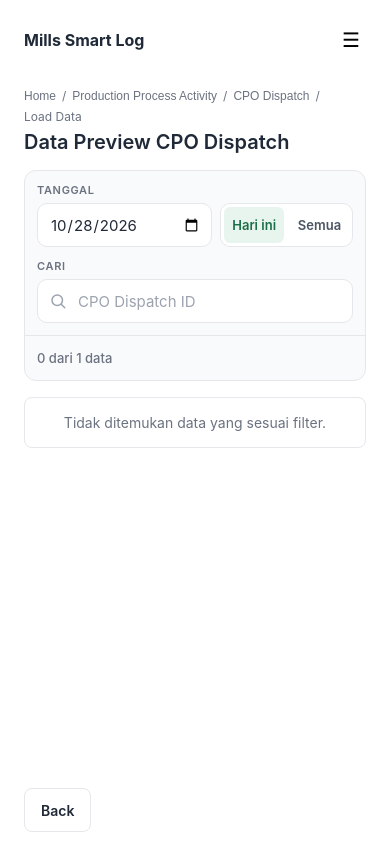
Test: DataPreviewCpoDispatchView › shows a not-found message with a reset-filter option when filters match nothing
Clear the date field with test id "date-filter". click: (125, 225)
box: x1=37 y1=203 x2=212 y2=247
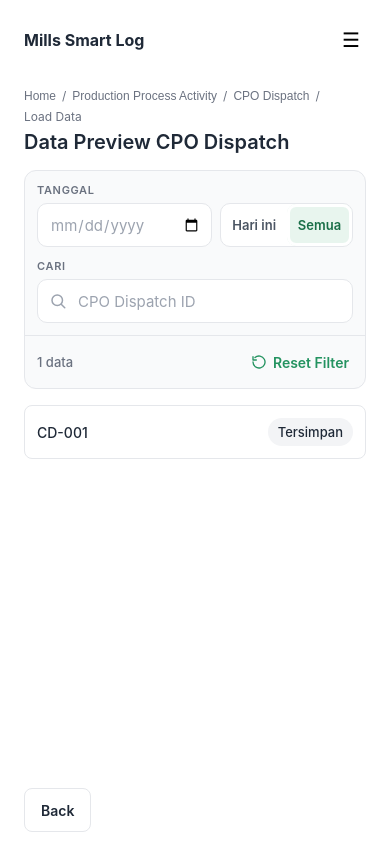
Type "no-match" into the field with test id "search-filter". click: (195, 301)
box: x1=37 y1=279 x2=353 y2=323
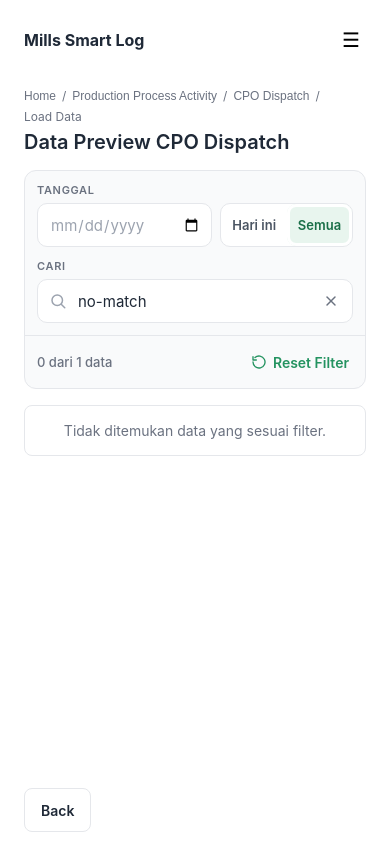
Now the text "Tidak ditemukan data yang sesuai filter." is shown, box x1=24 y1=405 x2=366 y2=456
Click the button with test id "reset-filter-button". click: (300, 362)
box: x1=239 y1=340 x2=361 y2=384
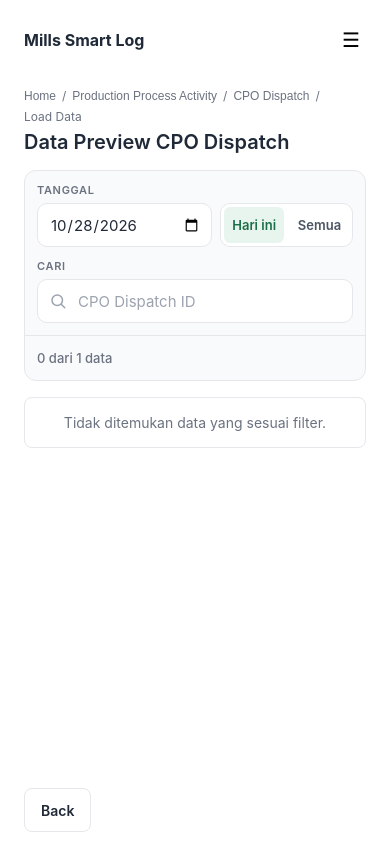
Now the field with test id "search-filter" is empty, box x1=37 y1=279 x2=353 y2=323
